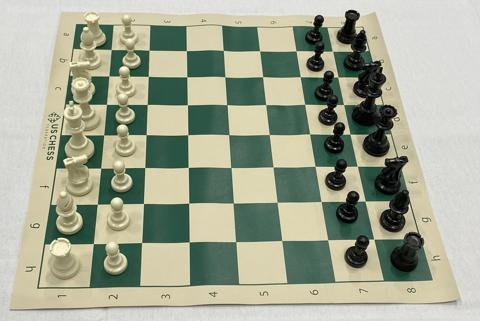xcorner: (328, 45, 339, 56), (292, 45, 303, 56), (255, 44, 266, 55), (218, 44, 229, 55), (181, 44, 192, 55), (143, 43, 154, 54), (105, 43, 116, 54), (334, 71, 345, 82), (296, 70, 307, 81), (258, 70, 269, 81), (220, 70, 231, 81), (181, 70, 192, 81), (142, 70, 153, 81), (103, 69, 114, 80), (340, 98, 351, 109), (301, 98, 312, 109), (262, 98, 273, 109), (222, 98, 233, 109), (182, 98, 193, 109), (141, 98, 152, 109), (101, 98, 112, 109), (347, 128, 358, 139), (306, 128, 317, 139), (265, 128, 276, 139), (224, 128, 235, 139), (182, 128, 193, 139), (140, 128, 151, 139), (98, 128, 109, 139), (354, 160, 365, 171), (312, 160, 323, 171), (269, 161, 280, 172), (226, 161, 237, 172), (183, 161, 194, 172), (139, 161, 150, 172), (95, 162, 106, 173), (361, 195, 372, 206), (318, 195, 329, 206), (273, 196, 284, 207), (229, 196, 240, 207), (183, 197, 194, 208), (138, 197, 149, 208), (92, 198, 103, 209), (370, 233, 381, 244), (324, 234, 335, 245), (278, 234, 289, 245), (231, 235, 242, 246), (184, 235, 195, 246), (136, 236, 147, 247), (88, 237, 99, 248)
